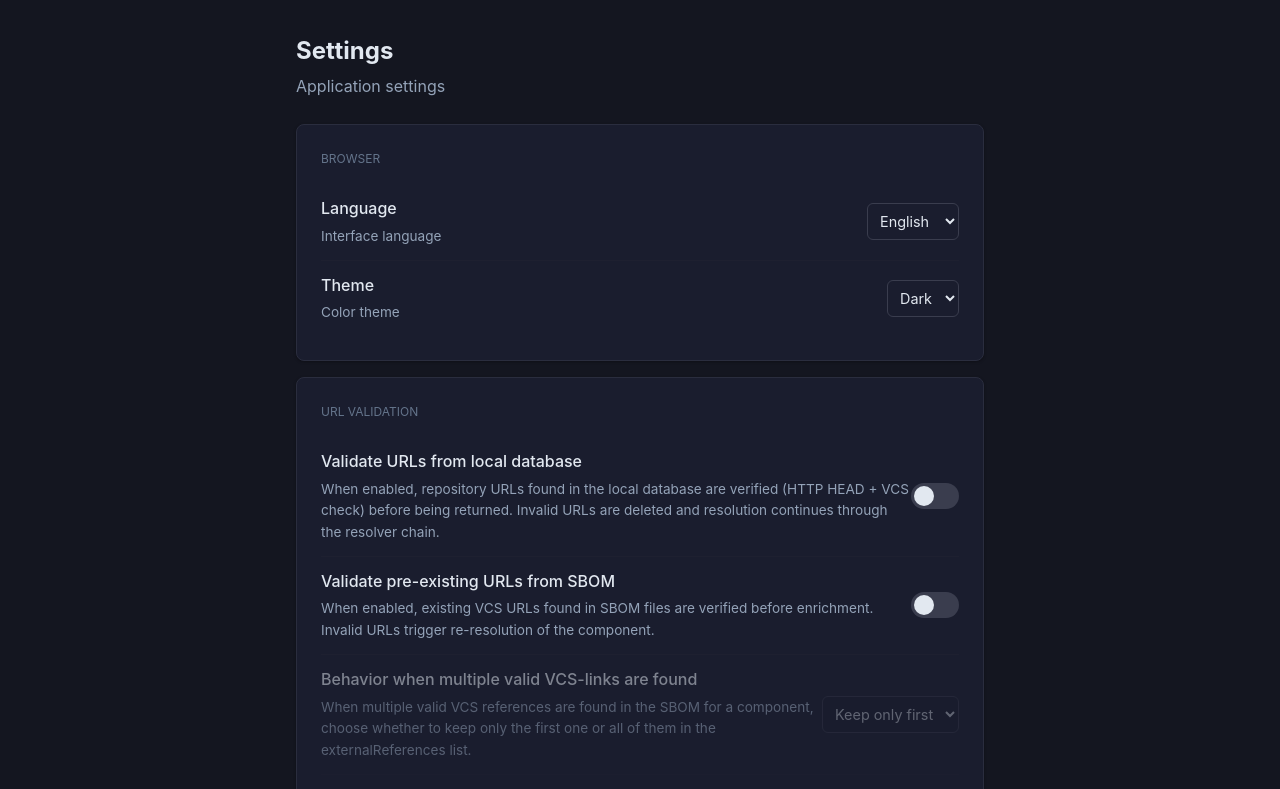
Scenario: Settings.vue › shows error toast when PATCH fails
Click the 1st checkbox: (935, 496) [911,484,959,510]
Wait 500 ms
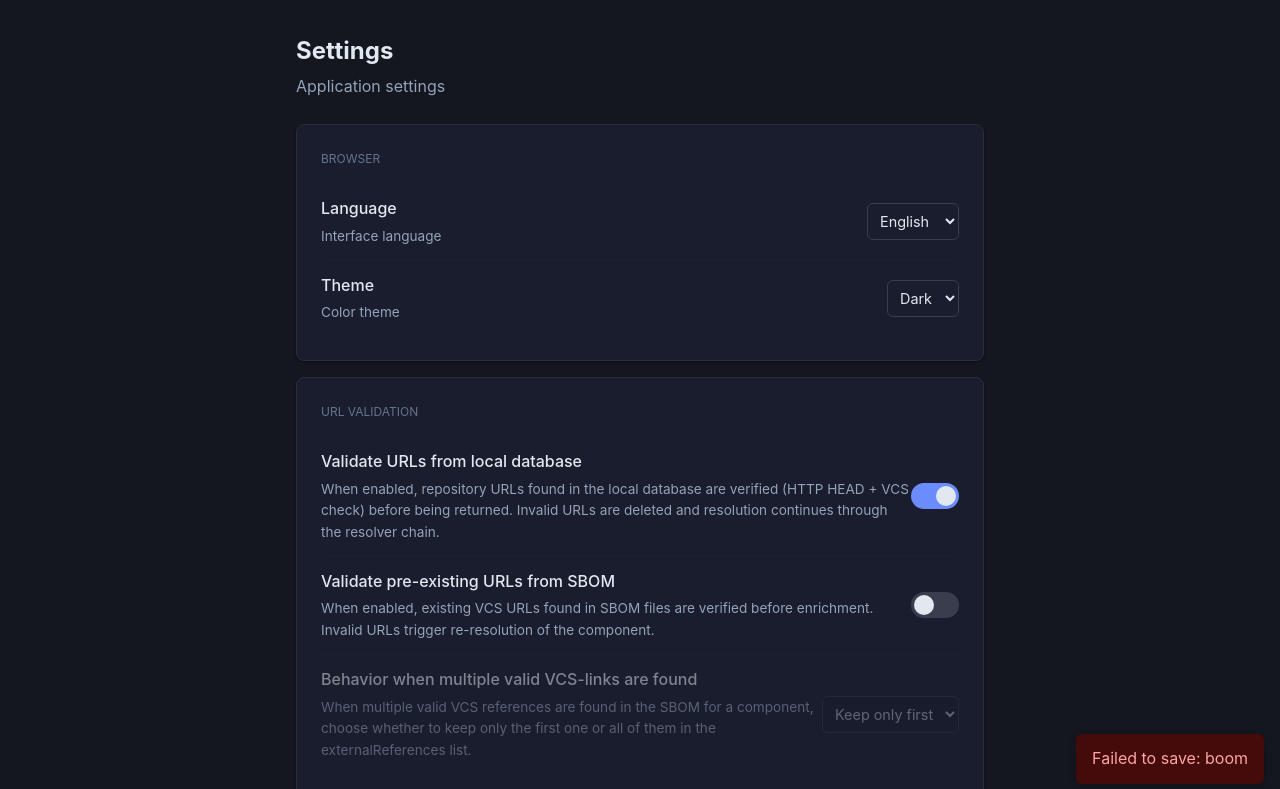
Now the text "Failed to save: boom" is shown, box [1076,734,1264,784]
Now the text with class "toast" reads "Failed to save: boom", box [1092,748,1248,768]
